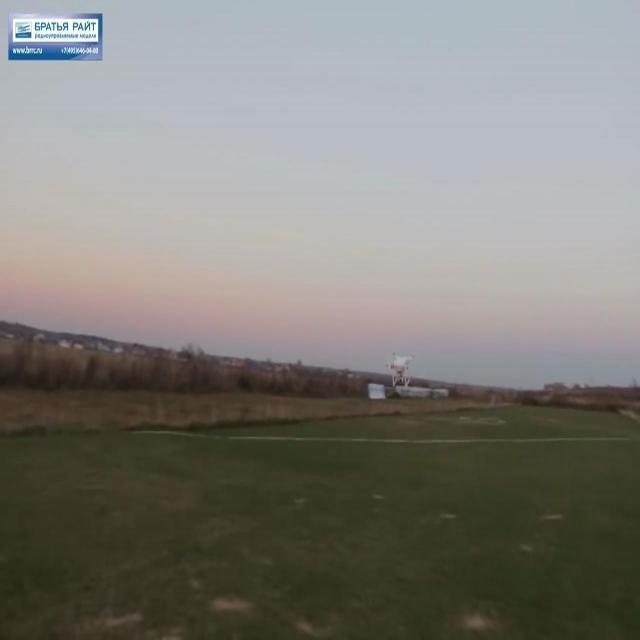drone: (385, 350, 415, 386)
